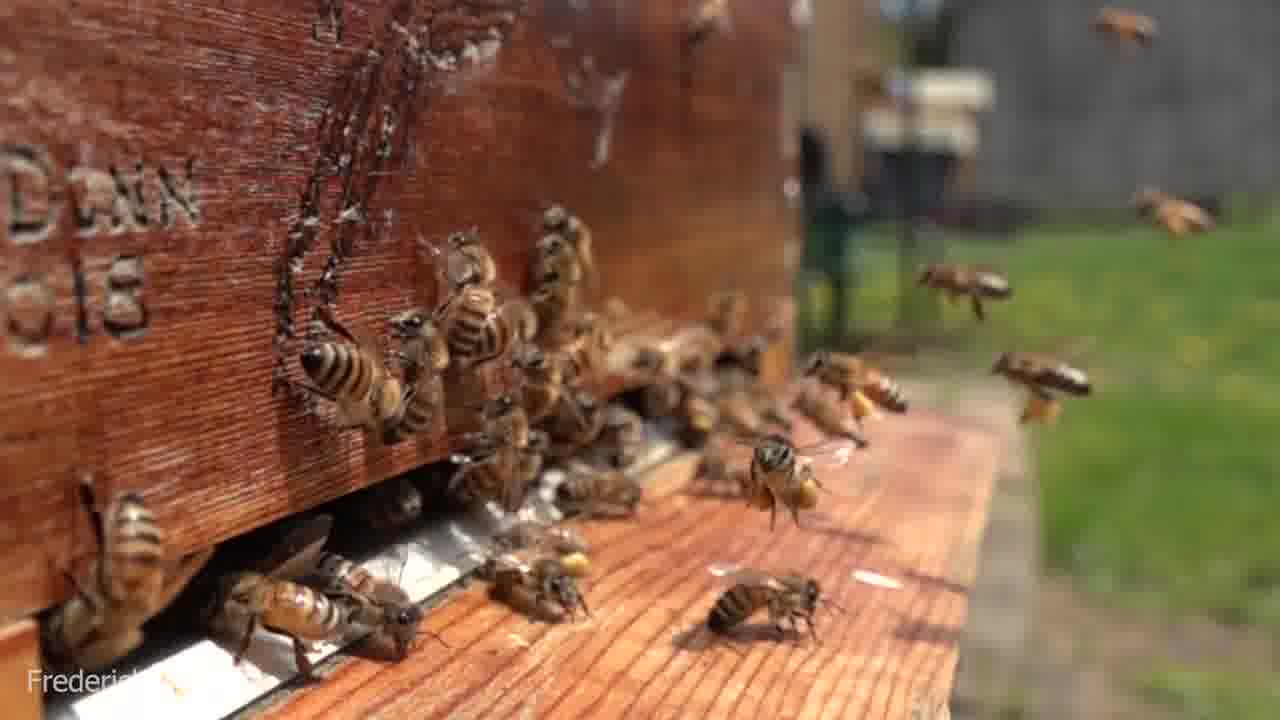pollen: (993, 349, 1095, 439), (807, 349, 917, 425), (740, 431, 827, 527), (1129, 188, 1218, 241)
